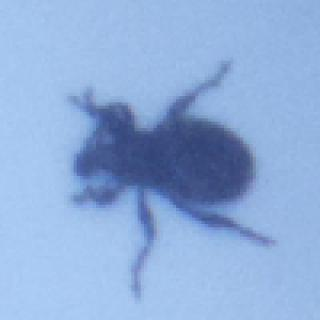bvw: (59, 58, 282, 302)
